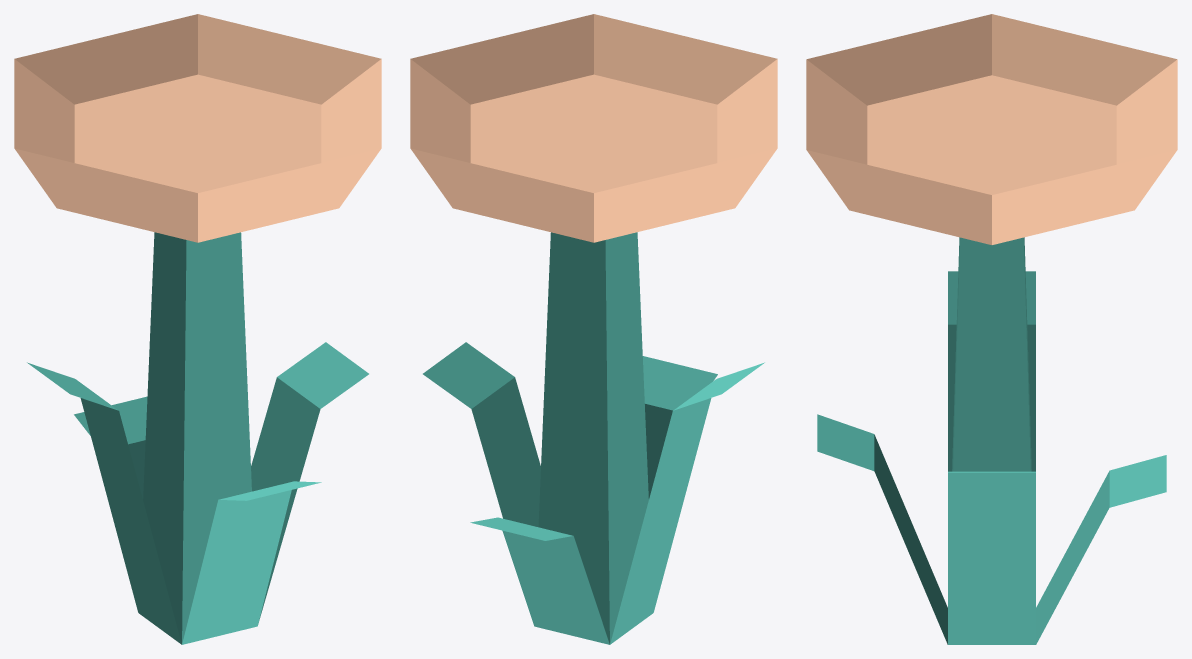
File: flower_beige3.obj
The picture shows the model from 3 angles, left to right: view 1: azimuth 30°, elevation 25°; view 2: azimuth 150°, elevation 25°; view 3: azimuth 270°, elevation 25°; orthographic projection.
Parts seen in each view (by area): view 1: flower_beige3; view 2: flower_beige3; view 3: flower_beige3.
Boxes of the visible parts, left/top/right/bottom form: flower_beige3: left=14, top=14, right=381, bottom=644; flower_beige3: left=410, top=14, right=777, bottom=644; flower_beige3: left=806, top=14, right=1177, bottom=644.
Size of the model in its own units: 1.51 by 2.03 by 1.31.
